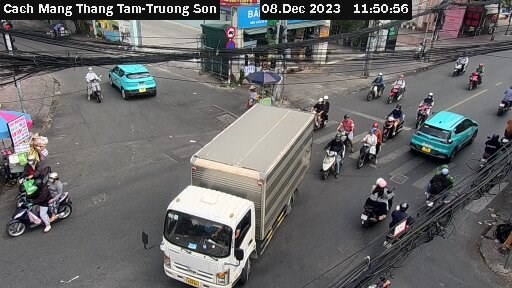car: (410, 103, 479, 163), (106, 63, 165, 102)
motorbike: (5, 188, 77, 237), (347, 171, 395, 227), (417, 170, 465, 215), (322, 131, 353, 184), (378, 104, 412, 142), (75, 69, 111, 104), (304, 91, 339, 123), (460, 63, 490, 93), (366, 70, 390, 104), (443, 52, 469, 81), (387, 76, 412, 106), (492, 84, 512, 114)
truck: (151, 101, 314, 287)
